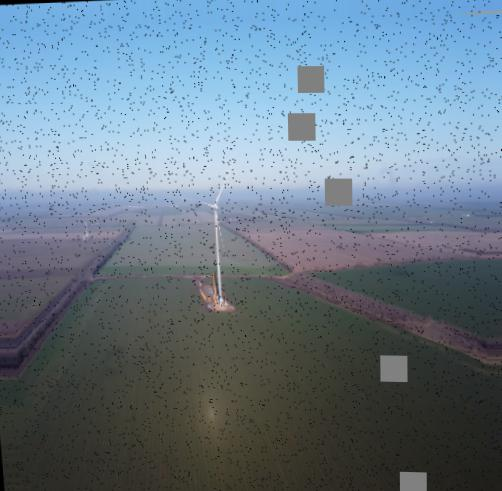wind turbine: (196, 178, 227, 308)
